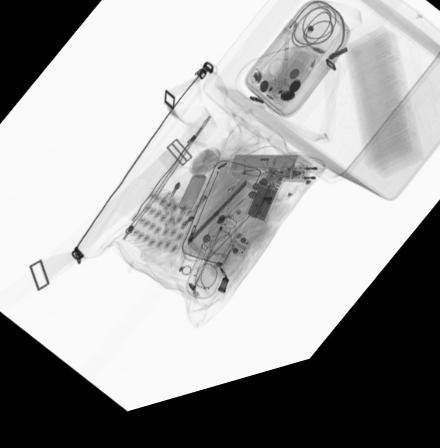Lighter: (178, 203, 210, 240)
